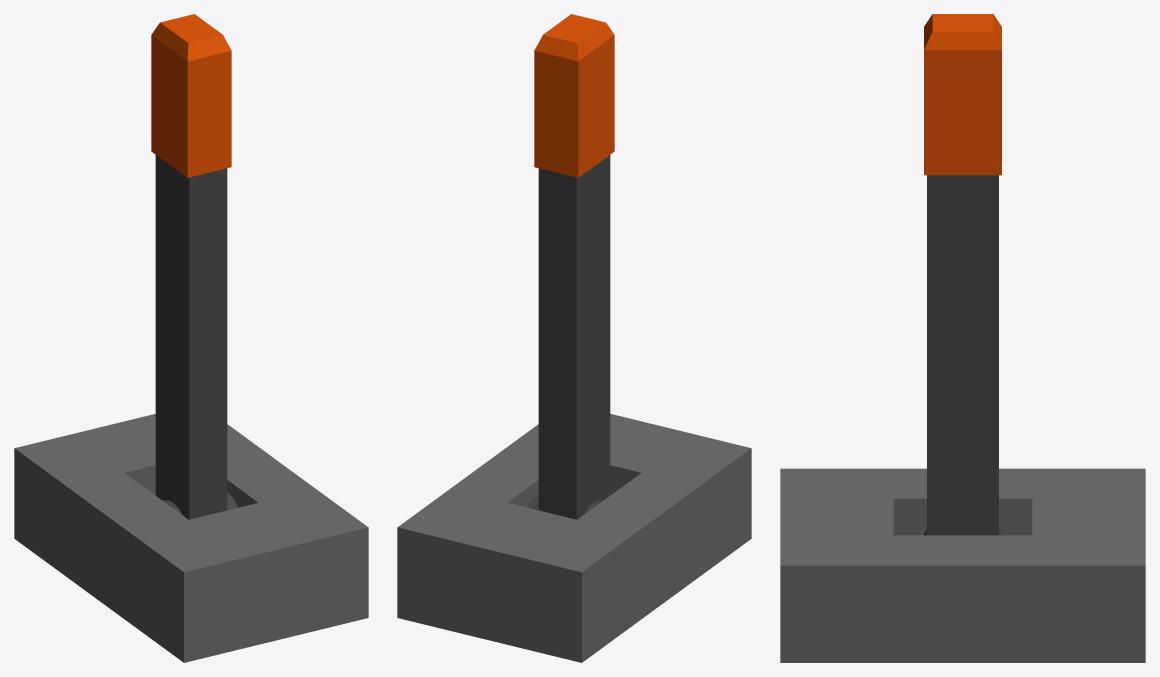
The model's file is OrangeLeverWB.glb.
3 views of the same model, side by side, from view 1: azimuth 30°, elevation 25°; view 2: azimuth 150°, elevation 25°; view 3: azimuth 270°, elevation 25° (orthographic). The views are drawn at different scales.
Parts seen in each view (by area): view 1: Base, Handle, Top; view 2: Base, Handle, Top; view 3: Base, Handle, Top.
Boxes of the visible parts, x1,y1,x2,y2 form: Base: [14, 414, 368, 662]; Handle: [155, 155, 237, 519]; Top: [151, 14, 231, 177]; Base: [397, 414, 751, 662]; Handle: [528, 155, 610, 519]; Top: [534, 14, 614, 177]; Base: [780, 468, 1145, 662]; Handle: [924, 175, 1001, 535]; Top: [924, 14, 1001, 175].
Size of the model in its own units: 0.38 by 1.08 by 0.6054.
